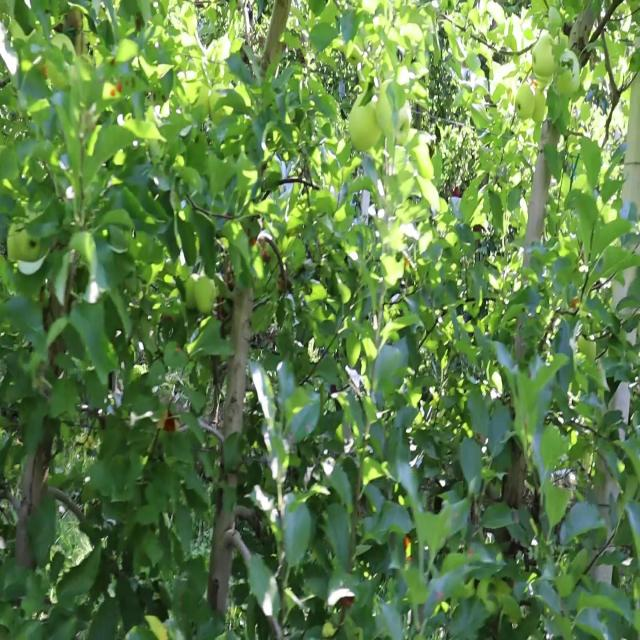apple: (377, 78, 411, 144), (348, 92, 379, 154), (556, 50, 582, 96), (9, 220, 37, 262), (531, 32, 556, 78), (195, 275, 217, 314), (514, 83, 535, 121), (533, 88, 546, 123), (185, 273, 197, 307)
